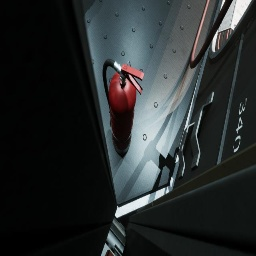FireExtinguisher ]: (103, 59, 145, 154)
